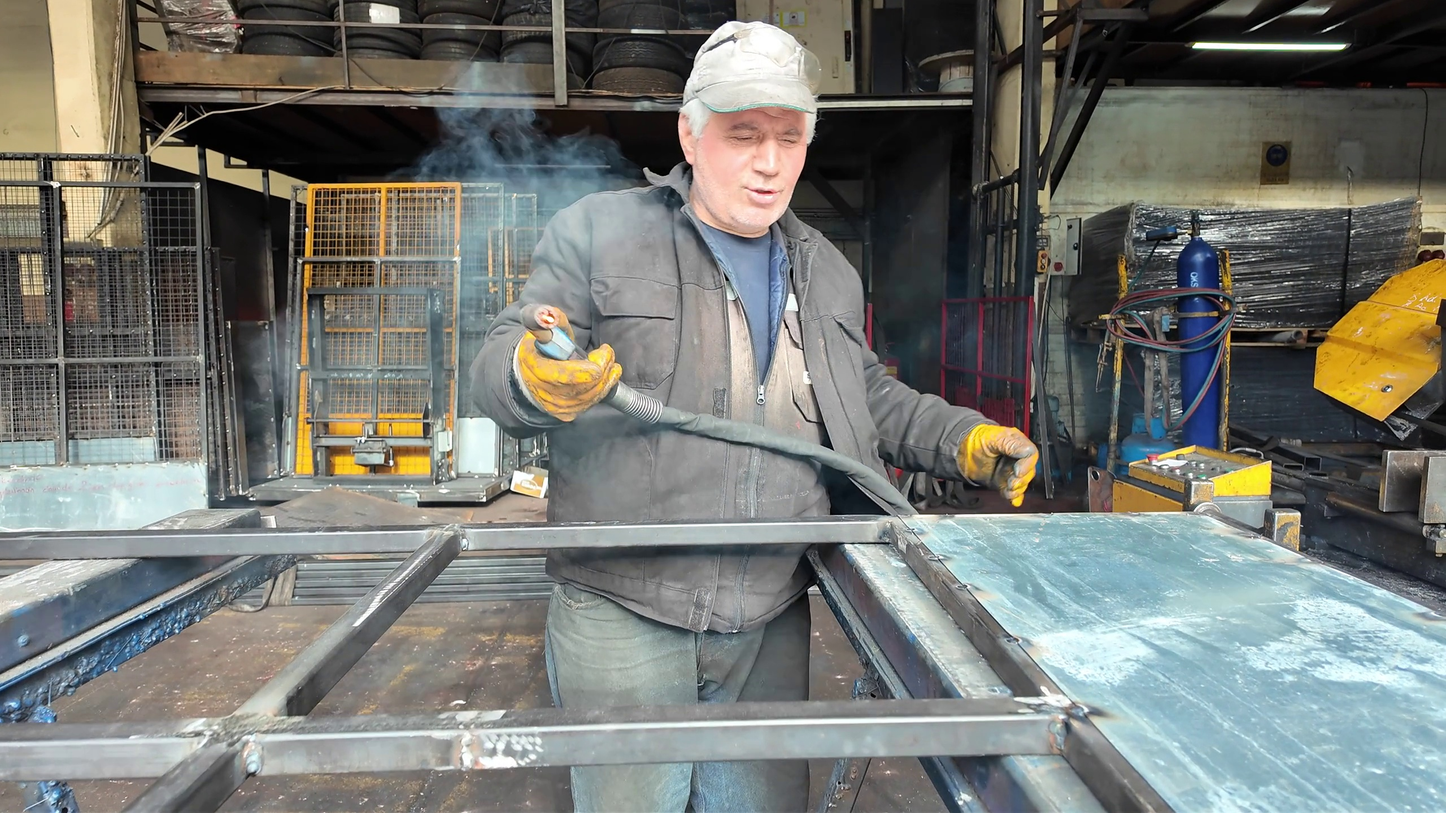person: (466, 22, 1040, 813)
